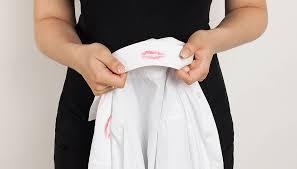kimchi: (101, 113, 117, 142), (135, 49, 166, 62)
